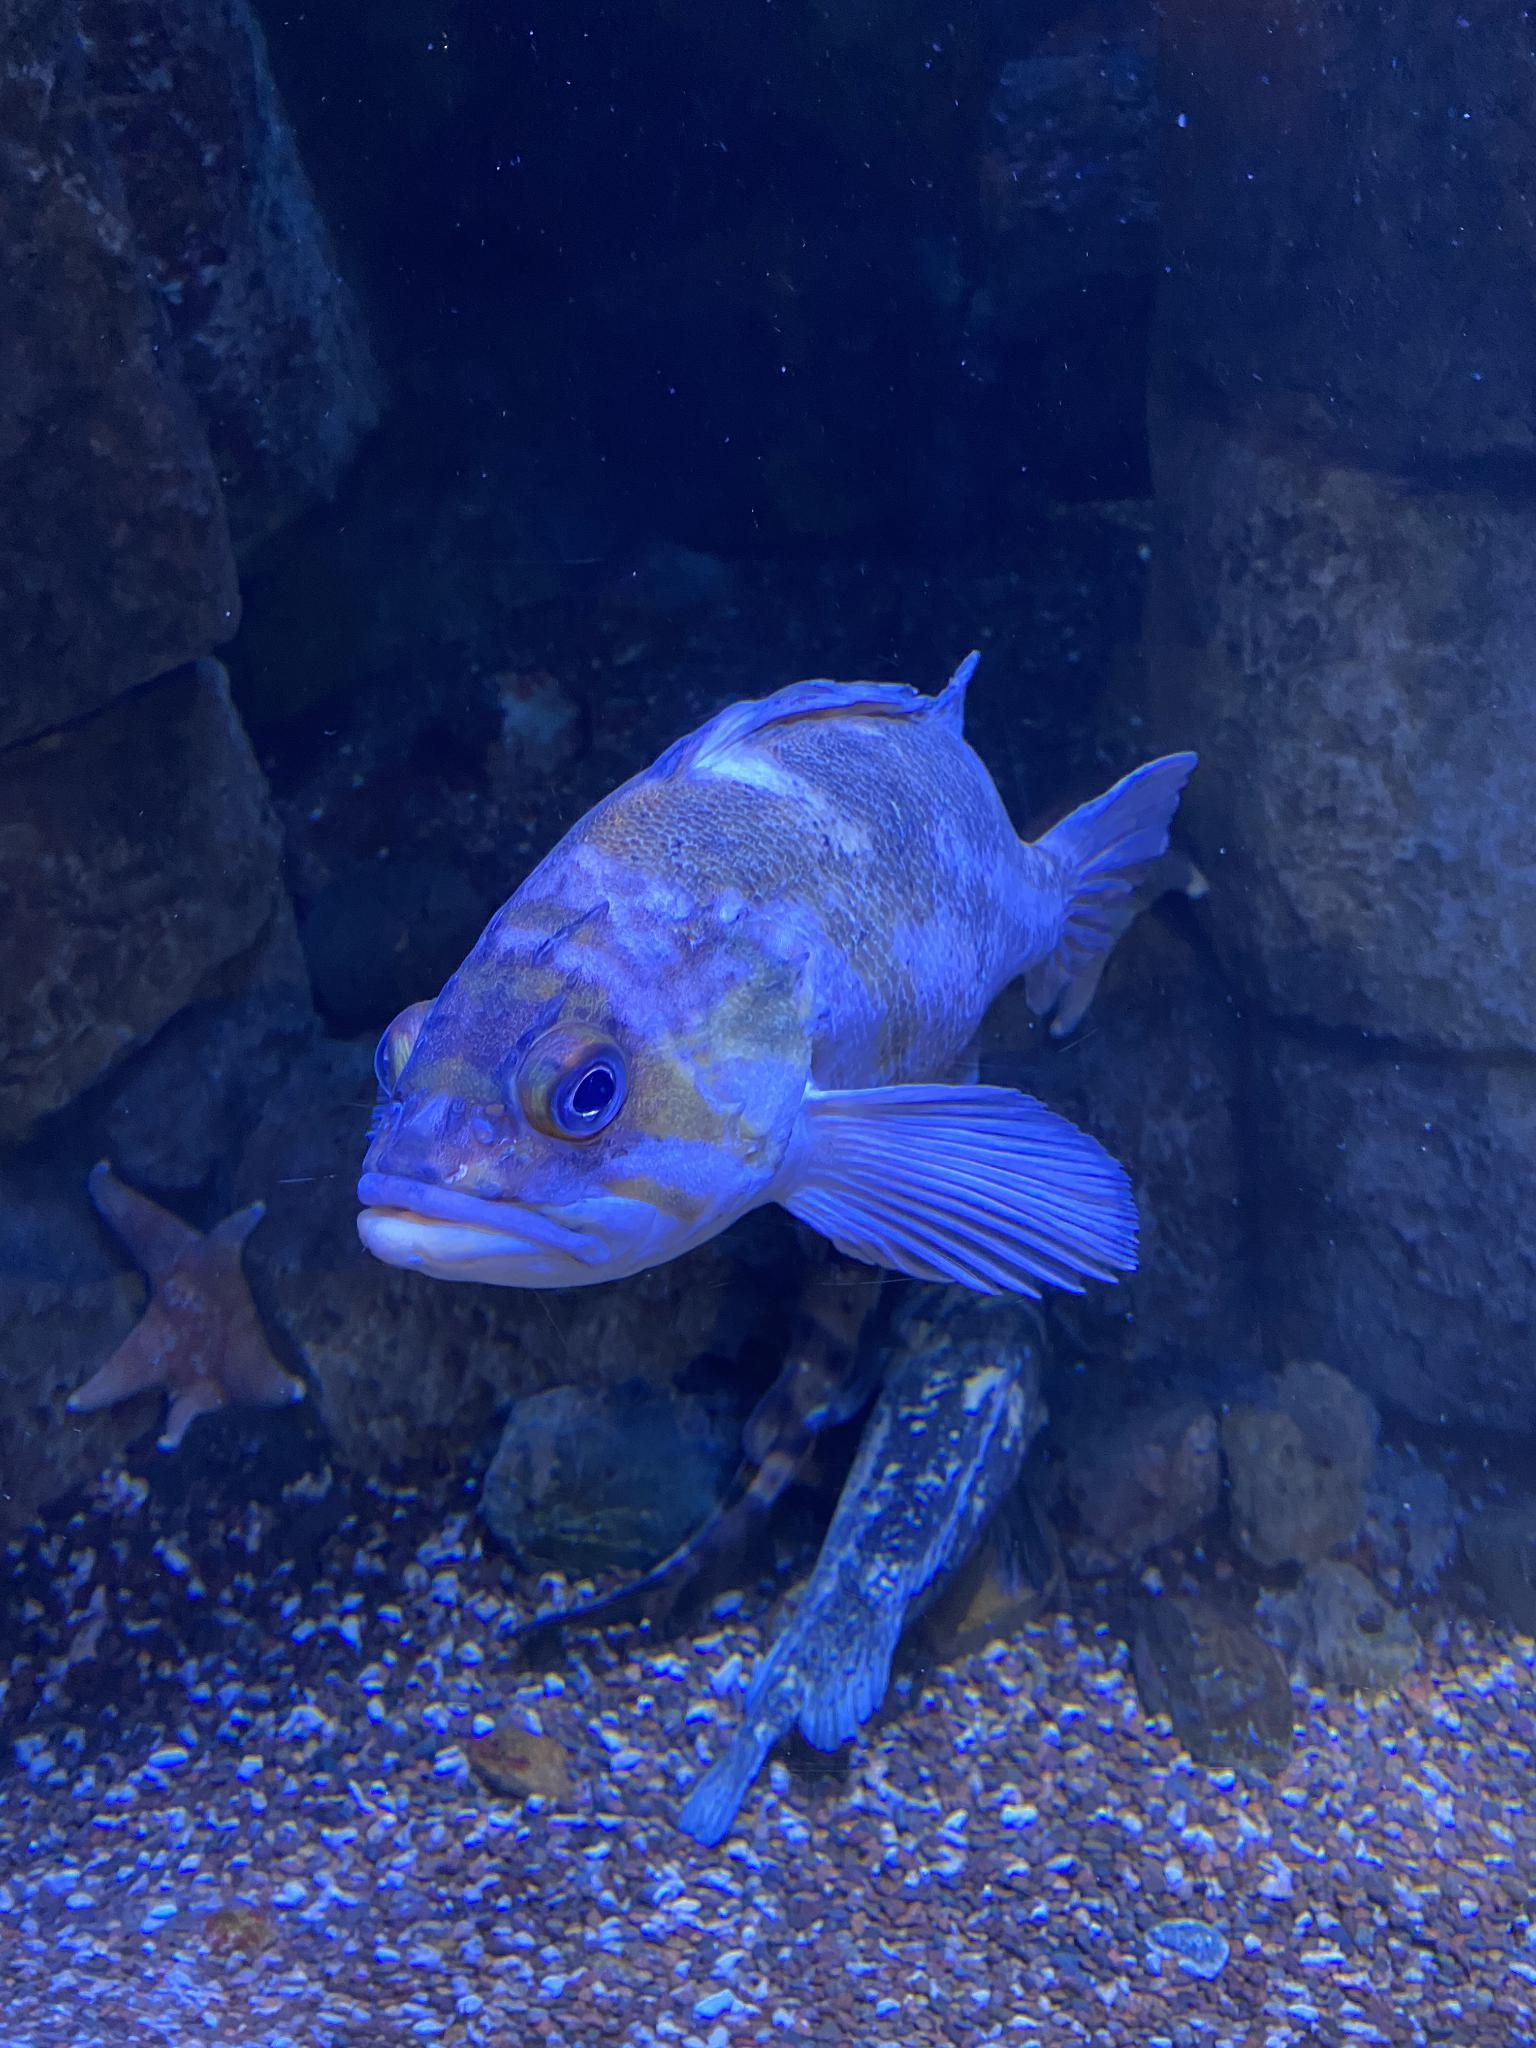fish: (352, 643, 1194, 1301), (657, 1263, 1057, 1837)
shark: (495, 1221, 913, 1664)
starfish: (71, 1163, 307, 1448)
